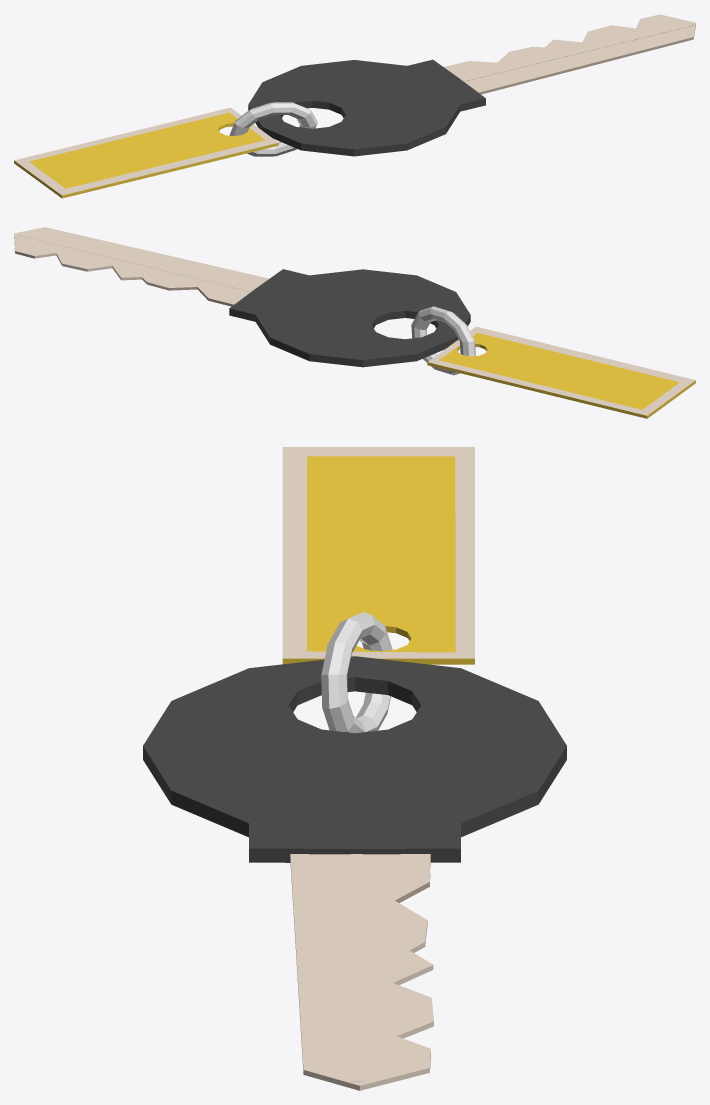
The model's file is Chave.fbx.
3 renders of one model, top to bottom at view 1: azimuth 30°, elevation 25°; view 2: azimuth 150°, elevation 25°; view 3: azimuth 270°, elevation 25°, orthographic. The views are drawn at different scales.
Visible parts, largest first — view 1: Chave; view 2: Chave; view 3: Chave.
Boxes of the visible parts, x1,y1,x2,y2 form: Chave: (14, 14, 695, 198); Chave: (14, 227, 695, 418); Chave: (143, 447, 566, 1090).
Bounding box in the file's own units: 574 × 47.76 × 161.
Materials: 1 (1 with a texture image).
